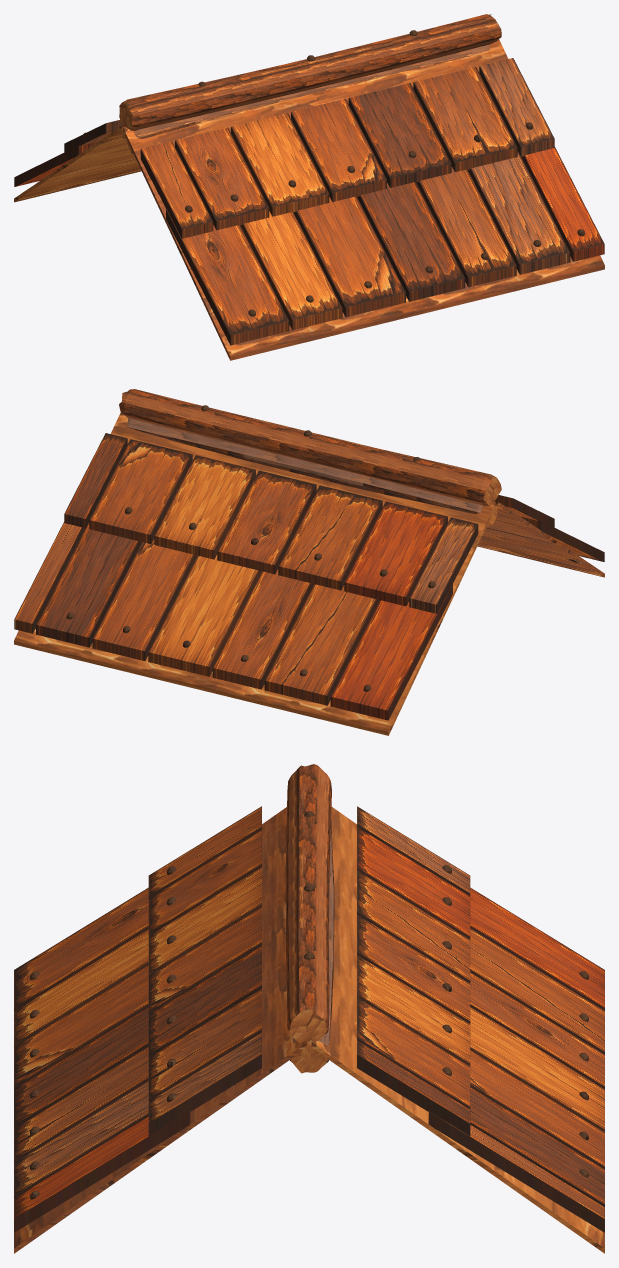
File: roof_45_ridge__plank_root.glb
3 views of the same model, one above another, from view 1: azimuth 30°, elevation 25°; view 2: azimuth 150°, elevation 25°; view 3: azimuth 270°, elevation 25° (orthographic). The views are drawn at different scales.
Visible parts, largest first — view 1: model; view 2: model; view 3: model.
Boxes of the visible parts, x1,y1,x2,y2 form: model: (14,14,604,360); model: (14,389,604,735); model: (14,764,604,1253).
Bounding box in the file's own units: 1.99 × 0.9123 × 1.99.
17 materials, 17 textured.
